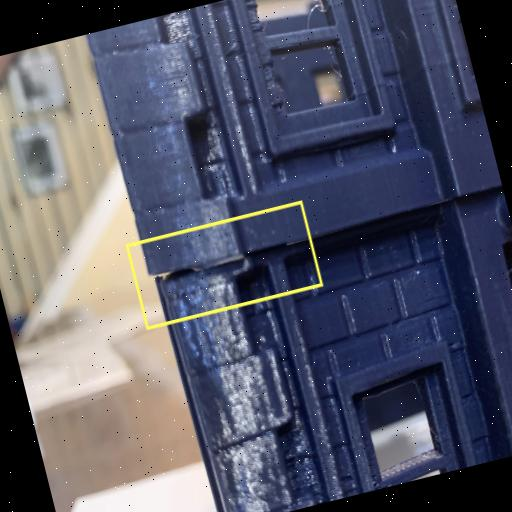cracks: (127, 203, 322, 327)
